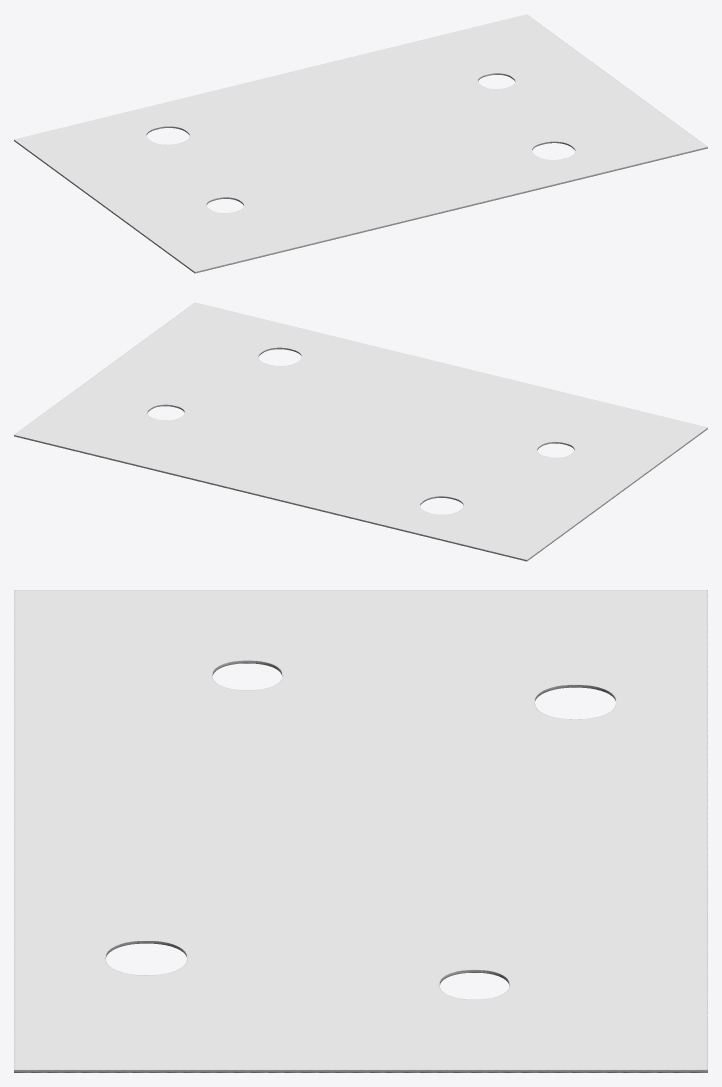
3 views of the same model, one above another, from view 1: azimuth 30°, elevation 25°; view 2: azimuth 150°, elevation 25°; view 3: azimuth 270°, elevation 25° (orthographic). The views are drawn at different scales.
Visible parts, largest first — view 1: HORNEADO_suelo; view 2: HORNEADO_suelo; view 3: HORNEADO_suelo.
Part boxes in pixels (<box>): HORNEADO_suelo: <box>14,14,707,273</box>; HORNEADO_suelo: <box>14,302,707,561</box>; HORNEADO_suelo: <box>14,590,707,1072</box>.
Size of what is drawn, in the model's own units: 36 by 0.1 by 22.
Materials: 1 (1 with a texture image).
